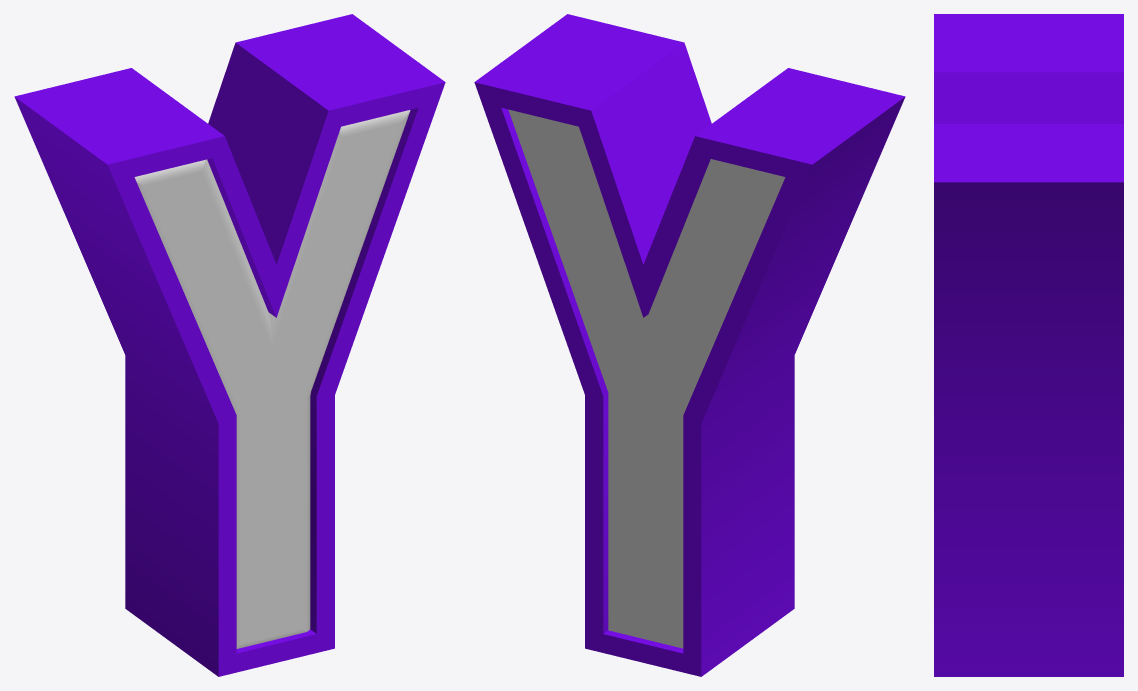
3 views of the same model, side by side, from view 1: azimuth 30°, elevation 25°; view 2: azimuth 150°, elevation 25°; view 3: azimuth 270°, elevation 25° (orthographic).
Parts seen in each view (by area): view 1: Extrusion Model.000, Extrusion Model; view 2: Extrusion Model.000, Extrusion Model; view 3: Extrusion Model.000.
Boxes of the visible parts, x1,y1,x2,y2 form: Extrusion Model.000: (14,14,445,676); Extrusion Model: (134,110,410,648); Extrusion Model.000: (474,14,905,676); Extrusion Model: (508,109,785,648); Extrusion Model.000: (934,14,1123,676).
Size of the model in its own units: 9.99 by 15.22 by 4.77.
